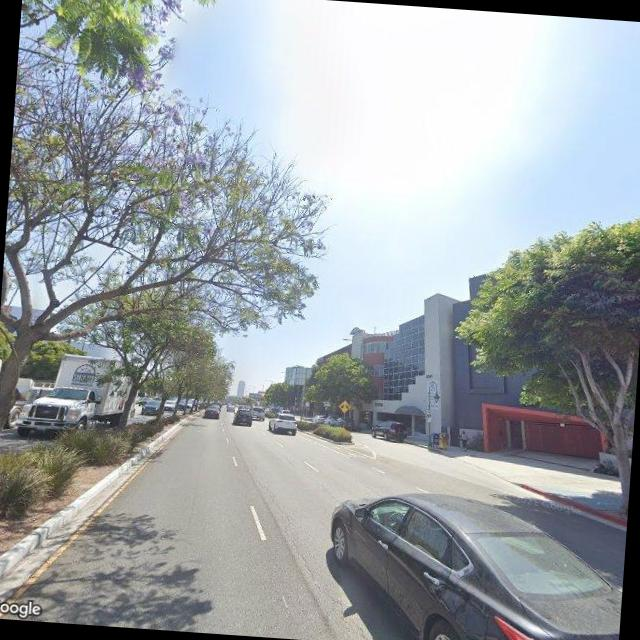pothole: (264, 495, 340, 608)
